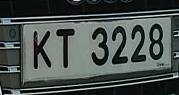2: (109, 25, 130, 66), (128, 23, 147, 64)
3: (88, 26, 110, 69)
8: (147, 21, 165, 63)
K: (29, 27, 54, 77)
T: (53, 28, 80, 73)
